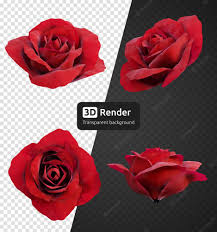lale: (7, 14, 109, 97), (118, 10, 207, 94)
